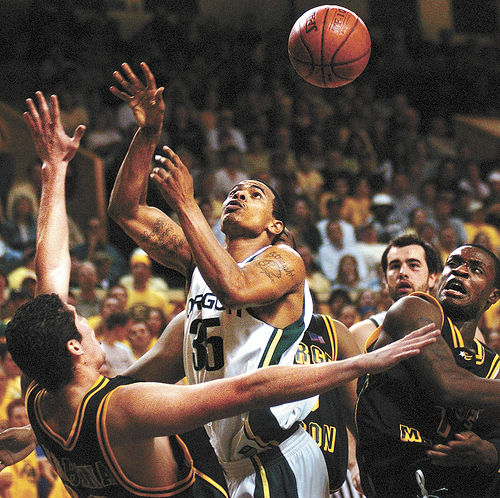basketball: (288, 5, 371, 89)
